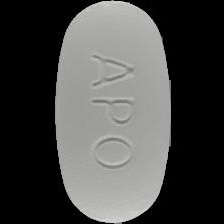60429-783: (0, 0, 224, 224)
